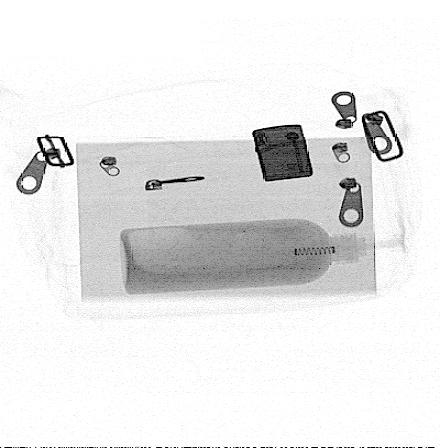Lighter: (252, 125, 313, 182)
